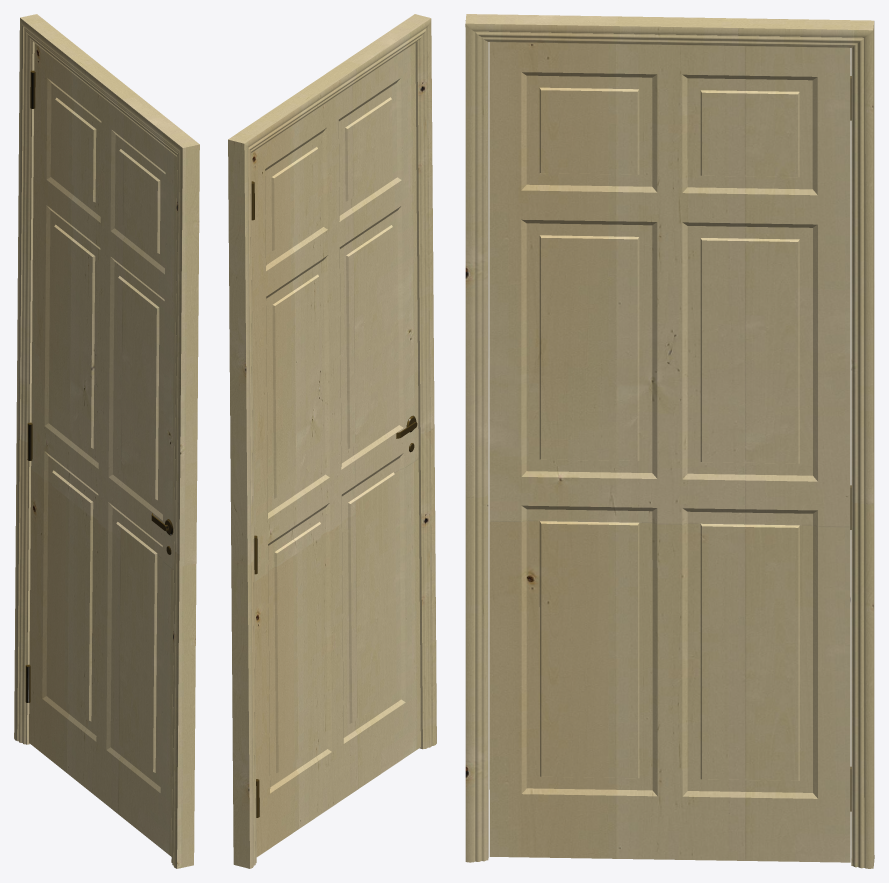
Rendered from Door3.obj.
The picture shows the model from 3 angles, left to right: view 1: azimuth 30°, elevation 25°; view 2: azimuth 150°, elevation 25°; view 3: azimuth 270°, elevation 25°; orthographic projection. The views are drawn at different scales.
Parts seen in each view (by area): view 1: 10057_wooden_door_v1, 10057_wooden_door_frame_v1; view 2: 10057_wooden_door_v1, 10057_wooden_door_frame_v1; view 3: 10057_wooden_door_v1, 10057_wooden_door_frame_v1.
Part boxes in pixels (x1=…): 10057_wooden_door_v1: x1=25, y1=43, x2=176, y2=856; 10057_wooden_door_frame_v1: x1=14, y1=14, x2=199, y2=868; 10057_wooden_door_v1: x1=251, y1=43, x2=420, y2=856; 10057_wooden_door_frame_v1: x1=228, y1=14, x2=436, y2=868; 10057_wooden_door_v1: x1=489, y1=42, x2=851, y2=862; 10057_wooden_door_frame_v1: x1=465, y1=14, x2=874, y2=868.
Size of the model in its own units: 10.59 by 207 by 91.14.
1 material, 1 textured.
